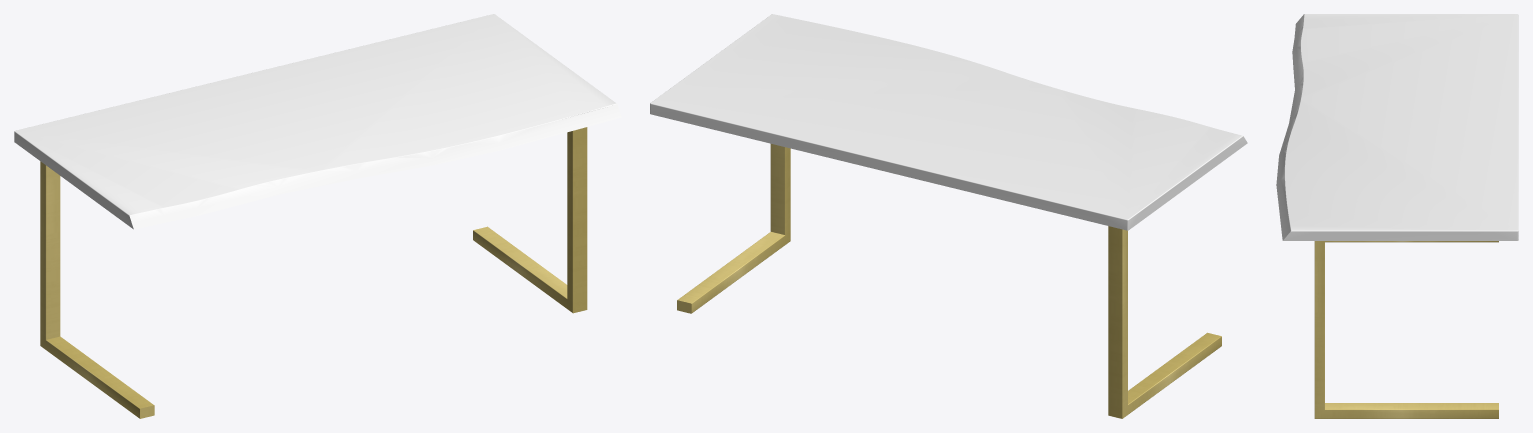
File: cerere.gltf
The picture shows the model from 3 angles, left to right: view 1: azimuth 30°, elevation 25°; view 2: azimuth 150°, elevation 25°; view 3: azimuth 270°, elevation 25°; orthographic projection. The views are drawn at different scales.
Parts seen in each view (by area): view 1: mesh_2; view 2: mesh_2; view 3: mesh_2.
Part boxes in pixels (x1=…): mesh_2: x1=14, y1=14, x2=621, y2=418; mesh_2: x1=650, y1=14, x2=1247, y2=418; mesh_2: x1=1276, y1=14, x2=1518, y2=418.
Bounding box in the file's own units: 195 × 82 × 91.89.
4 materials, 2 textured.
